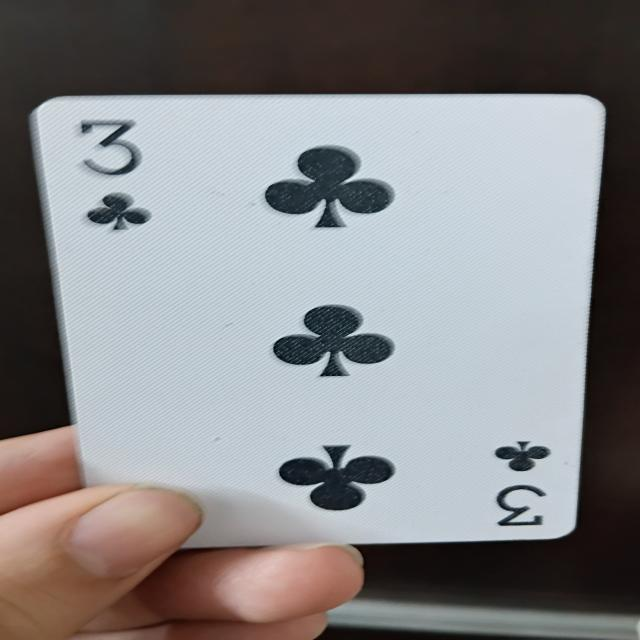3C: (29, 90, 599, 546)
